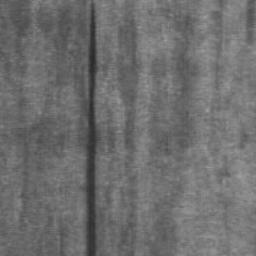Scratches: (84, 0, 98, 256)
